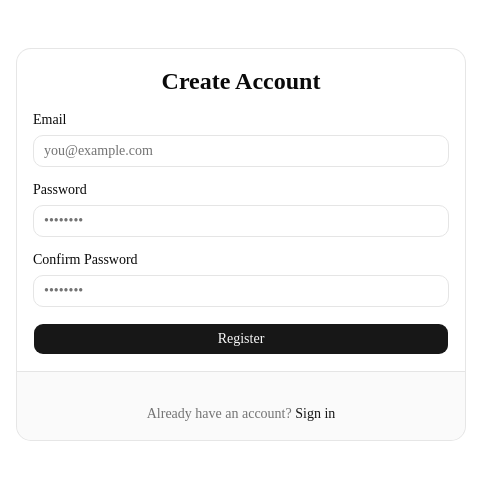
Test: RegisterPage › shows error for empty fields
Click the button "Register".
click(241, 338)  # box [33,322,449,354]
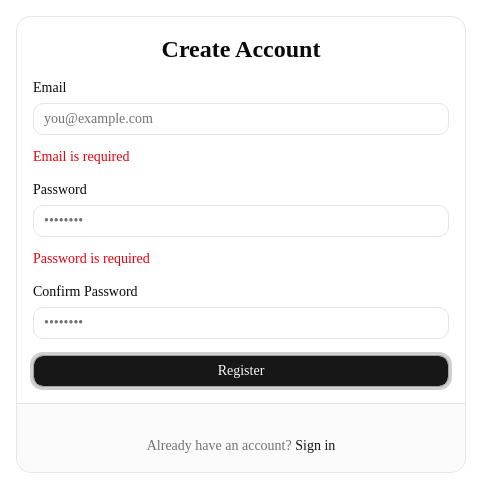
Expected: the text "Email is required" is shown, [33,148,129,164]
Expected: the text "Password is required" is shown, [33,250,150,266]
